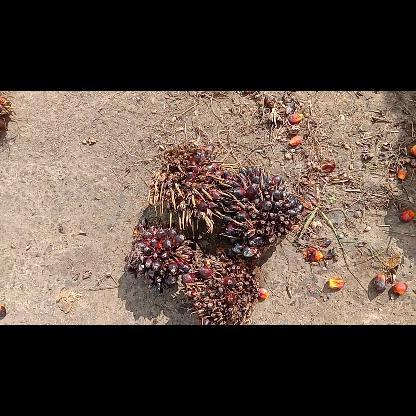TBS abnormal: (148, 144, 230, 232), (224, 166, 302, 258), (182, 248, 258, 324), (124, 216, 193, 294)
